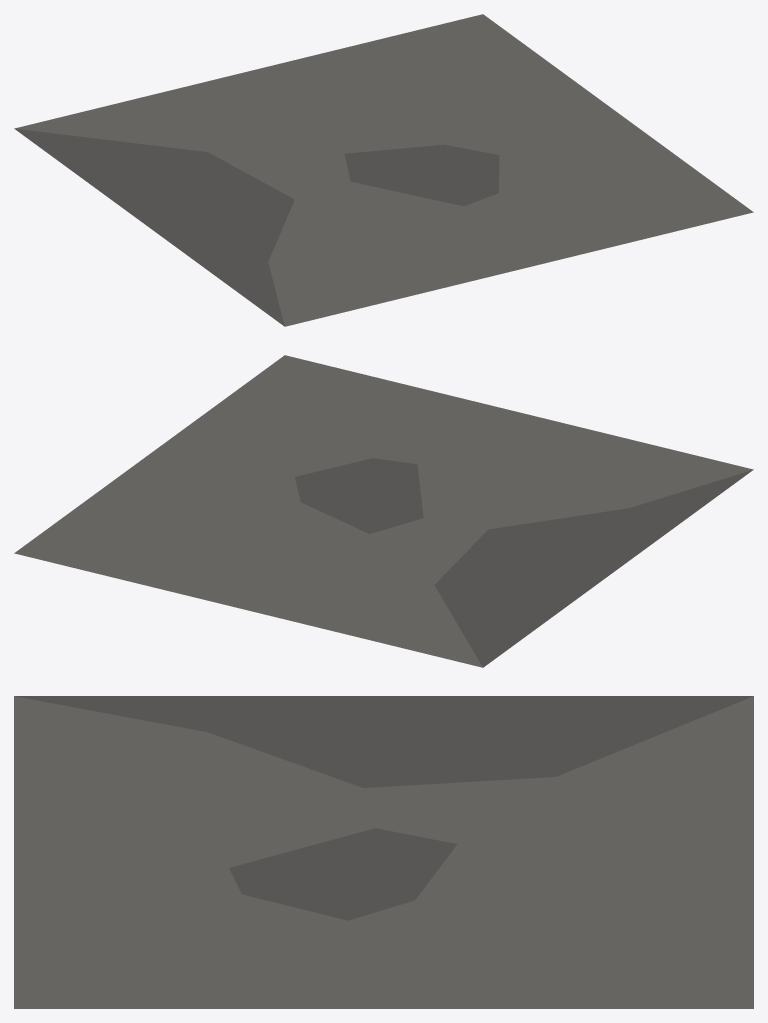
Rendered from AI_Env_Floor_01_Stained_01.fbx.
3 renders of one model, top to bottom at view 1: azimuth 30°, elevation 25°; view 2: azimuth 150°, elevation 25°; view 3: azimuth 270°, elevation 25°, orthographic. The views are drawn at different scales.
Visible parts, largest first — view 1: AI_Env_Floor_01_Stained_01; view 2: AI_Env_Floor_01_Stained_01; view 3: AI_Env_Floor_01_Stained_01.
Part boxes in pixels (x1,y1,x2,y2): AI_Env_Floor_01_Stained_01: (14,14,753,326); AI_Env_Floor_01_Stained_01: (14,355,753,667); AI_Env_Floor_01_Stained_01: (14,696,753,1008).
Size of the model in its own units: 5 by 0 by 5.
